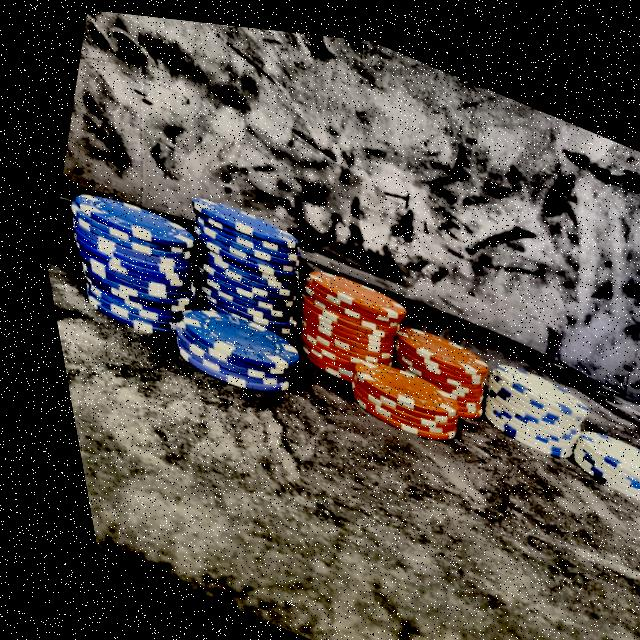Chip: (24, 162, 214, 361), (250, 231, 423, 410), (144, 191, 315, 360), (439, 331, 605, 473), (143, 273, 304, 416), (315, 333, 478, 460), (361, 303, 499, 428), (546, 394, 640, 510)
